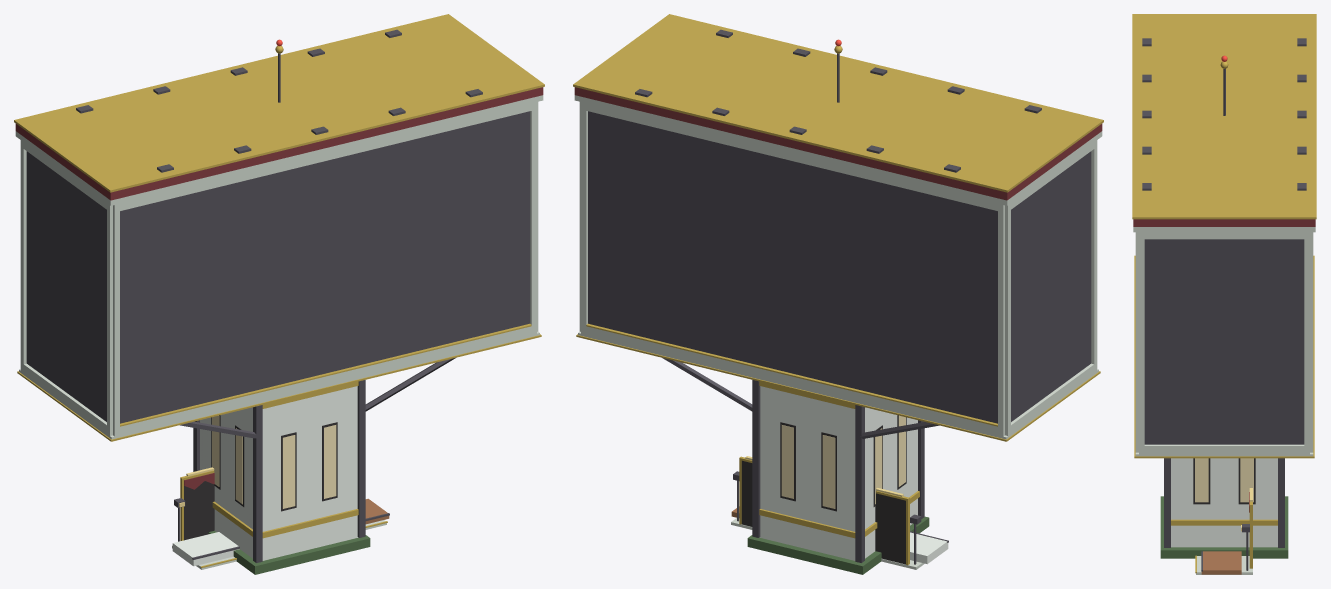
File: downs-screen.glb
3 views of the same model, side by side, from view 1: azimuth 30°, elevation 25°; view 2: azimuth 150°, elevation 25°; view 3: azimuth 270°, elevation 25° (orthographic). The views are drawn at different scales.
Visible parts, largest first — view 1: dn_drum_black2, dn_drum_gold, dn_drum_mint2, dn_drum_mint, dn_drum_barn, dn_drum_glasswarm, dn_drum_money2, dn_podium_black, dn_podium_mint, dn_drum_black; view 2: dn_drum_black2, dn_drum_gold, dn_drum_mint2, dn_drum_mint, dn_drum_barn, dn_drum_glasswarm, dn_podium_black, dn_drum_money2, dn_drum_black, dn_podium_mint; view 3: dn_drum_gold, dn_drum_black2, dn_drum_mint2, dn_drum_mint, dn_drum_money2, dn_drum_barn, dn_drum_glasswarm, dn_podium_saddle, dn_drum_black, dn_podium_mint2, dn_podium_gold.
Part boxes in pixels (bbox=[...]): dn_drum_black2: bbox=[26, 29, 529, 562]; dn_drum_gold: bbox=[14, 14, 544, 538]; dn_drum_mint2: bbox=[15, 95, 543, 439]; dn_drum_mint: bbox=[200, 386, 358, 560]; dn_drum_barn: bbox=[15, 87, 543, 200]; dn_drum_glasswarm: bbox=[212, 415, 336, 508]; dn_drum_money2: bbox=[208, 530, 370, 574]; dn_podium_black: bbox=[184, 481, 214, 540]; dn_podium_mint: bbox=[172, 532, 239, 566]; dn_drum_black: bbox=[211, 415, 337, 511]; dn_drum_black2: bbox=[588, 29, 1091, 562]; dn_drum_gold: bbox=[573, 14, 1103, 538]; dn_drum_mint2: bbox=[574, 95, 1102, 439]; dn_drum_mint: bbox=[759, 386, 917, 560]; dn_drum_barn: bbox=[574, 87, 1102, 200]; dn_drum_glasswarm: bbox=[781, 415, 905, 508]; dn_podium_black: bbox=[741, 460, 905, 564]; dn_drum_money2: bbox=[747, 516, 929, 574]; dn_drum_black: bbox=[780, 415, 906, 511]; dn_podium_mint: bbox=[910, 532, 948, 564]; dn_drum_gold: bbox=[1132, 14, 1316, 525]; dn_drum_black2: bbox=[1142, 38, 1306, 547]; dn_drum_mint2: bbox=[1133, 227, 1315, 456]; dn_drum_mint: bbox=[1171, 458, 1277, 547]; dn_drum_money2: bbox=[1160, 496, 1288, 558]; dn_drum_barn: bbox=[1133, 219, 1315, 226]; dn_drum_glasswarm: bbox=[1195, 458, 1253, 502]; dn_podium_saddle: bbox=[1201, 551, 1241, 574]; dn_drum_black: bbox=[1193, 458, 1255, 504]; dn_podium_mint2: bbox=[1196, 556, 1252, 574]; dn_podium_gold: bbox=[1195, 501, 1252, 573].
Bounding box in the file's own units: 42.2 × 46.08 × 16.2.
